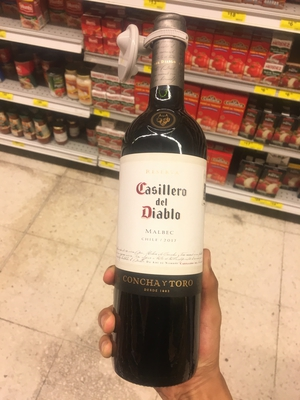casillero del diablo malbec: (101, 14, 208, 372)
